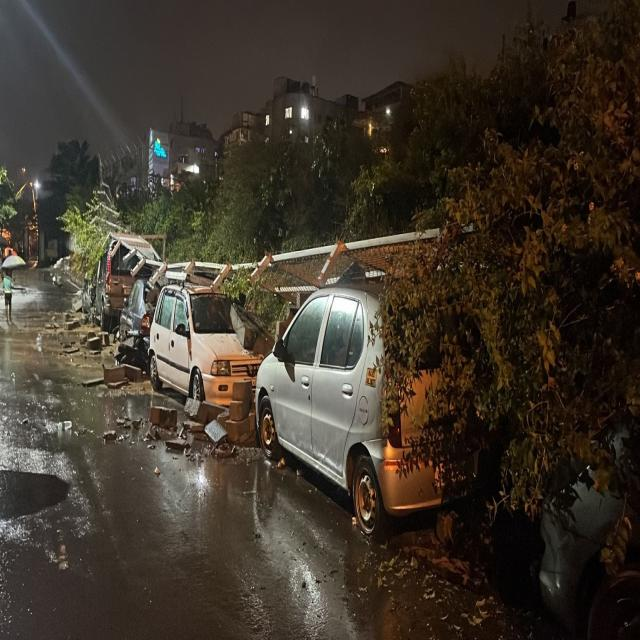Accident: (77, 226, 278, 464)
